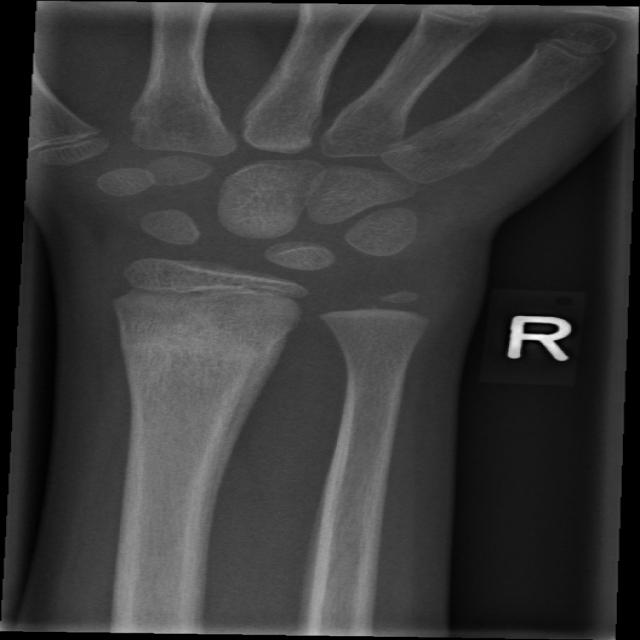radius fracture: (70, 304, 319, 453)
